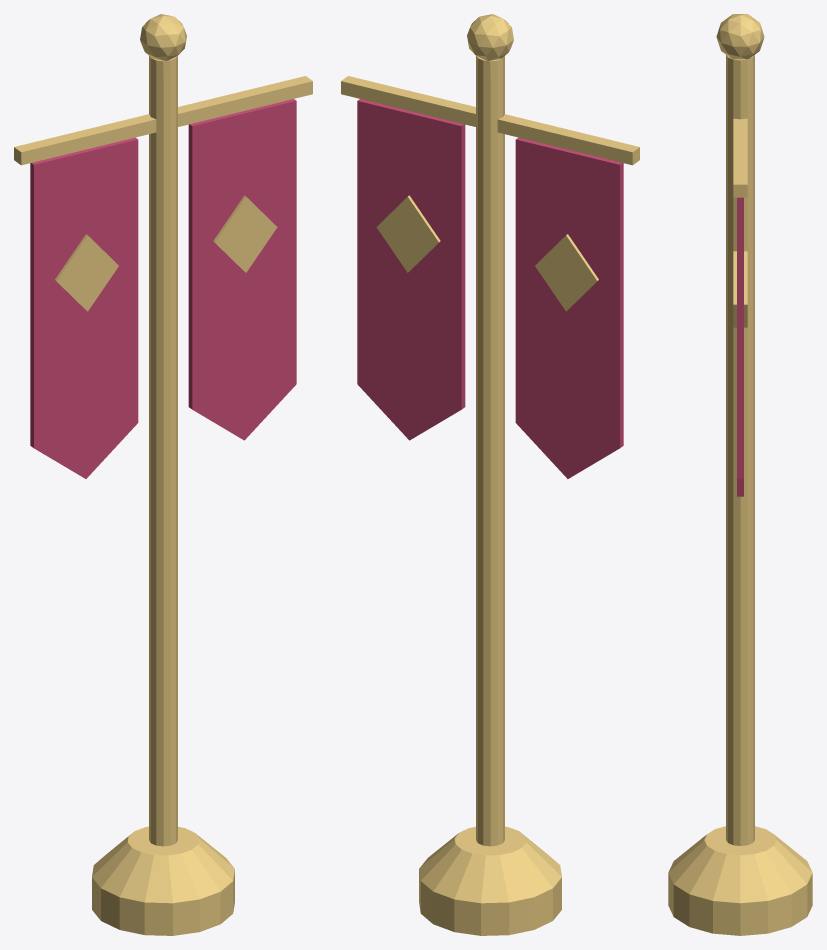
The model's file is HOB_BannerPole.fbx.
3 renders of one model, left to right at view 1: azimuth 30°, elevation 25°; view 2: azimuth 150°, elevation 25°; view 3: azimuth 270°, elevation 25°, orthographic.
Visible parts, largest first — view 1: HOB_BannerPole; view 2: HOB_BannerPole; view 3: HOB_BannerPole.
Part boxes in pixels (x1,y1,x2,y2): HOB_BannerPole: (14, 14, 312, 935); HOB_BannerPole: (341, 14, 639, 935); HOB_BannerPole: (668, 14, 812, 935).
Size of the model in its own units: 140 by 408 by 60.
